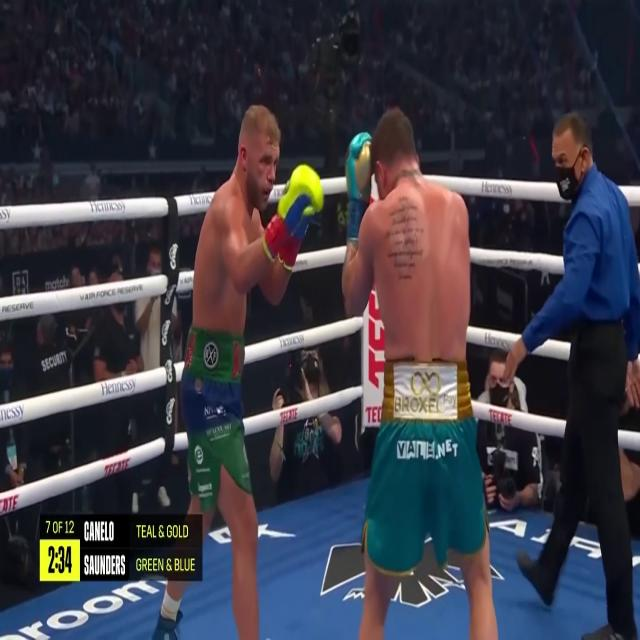boxer_1: (192, 105, 280, 334)
boxer_2: (371, 108, 470, 361)
gloves_1: (261, 164, 324, 267)
gloves_2: (346, 133, 374, 241)
